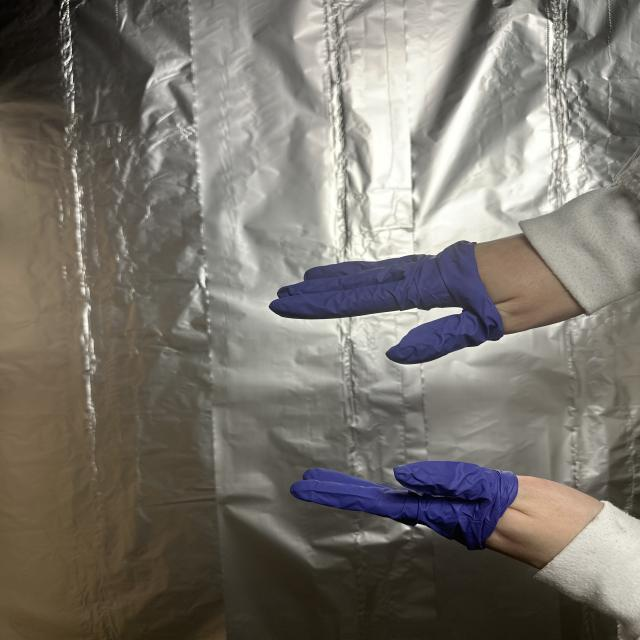glove_partial: (262, 232, 595, 366), (290, 459, 608, 574)
